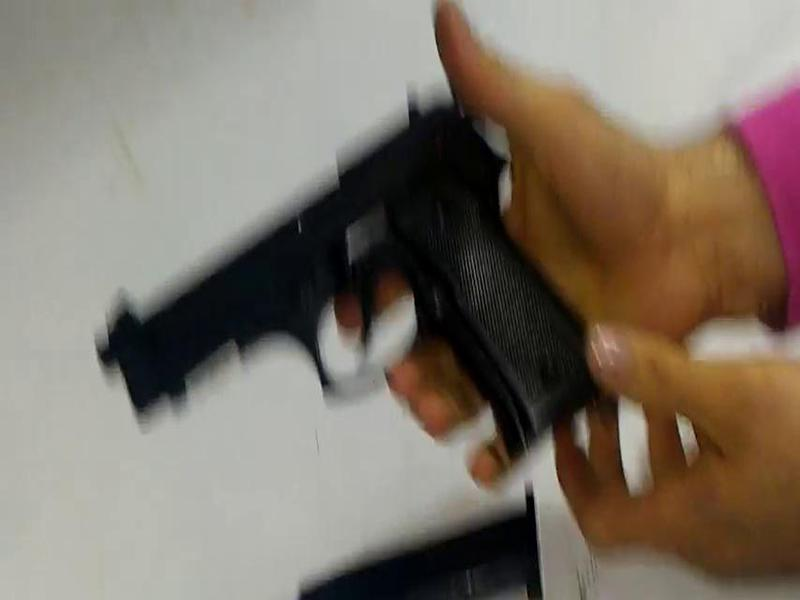Pistola: (97, 82, 615, 447)
